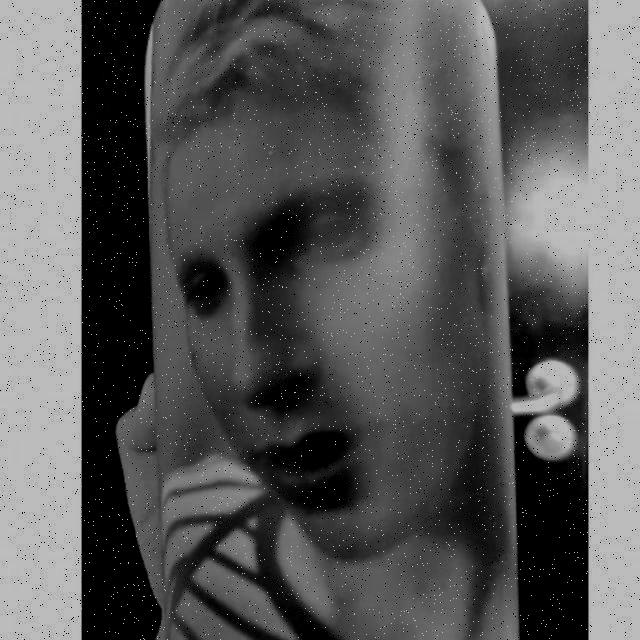fake: (138, 0, 526, 640)
